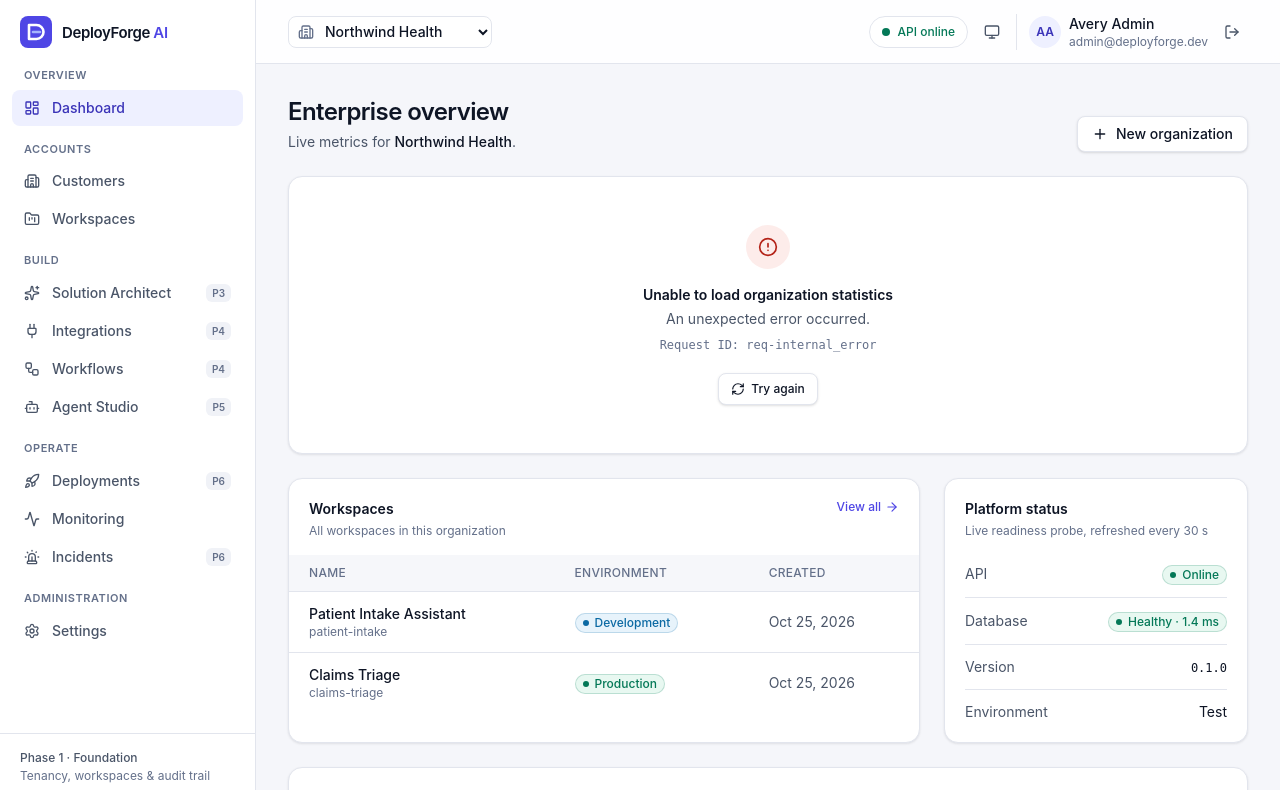
Test: DashboardPage › shows an error state with request ID and recovers on retry
expect the message that starts with "Unable to load organization statistics" is shown: met, box [643,286,893,303]
expect the message that starts with "Unable to load organization statistics" shows "Request ID: req-internal_error": met, box [643,225,893,405]
Click the button "Try again" at coordinates (768, 389), box [718,373,818,405]
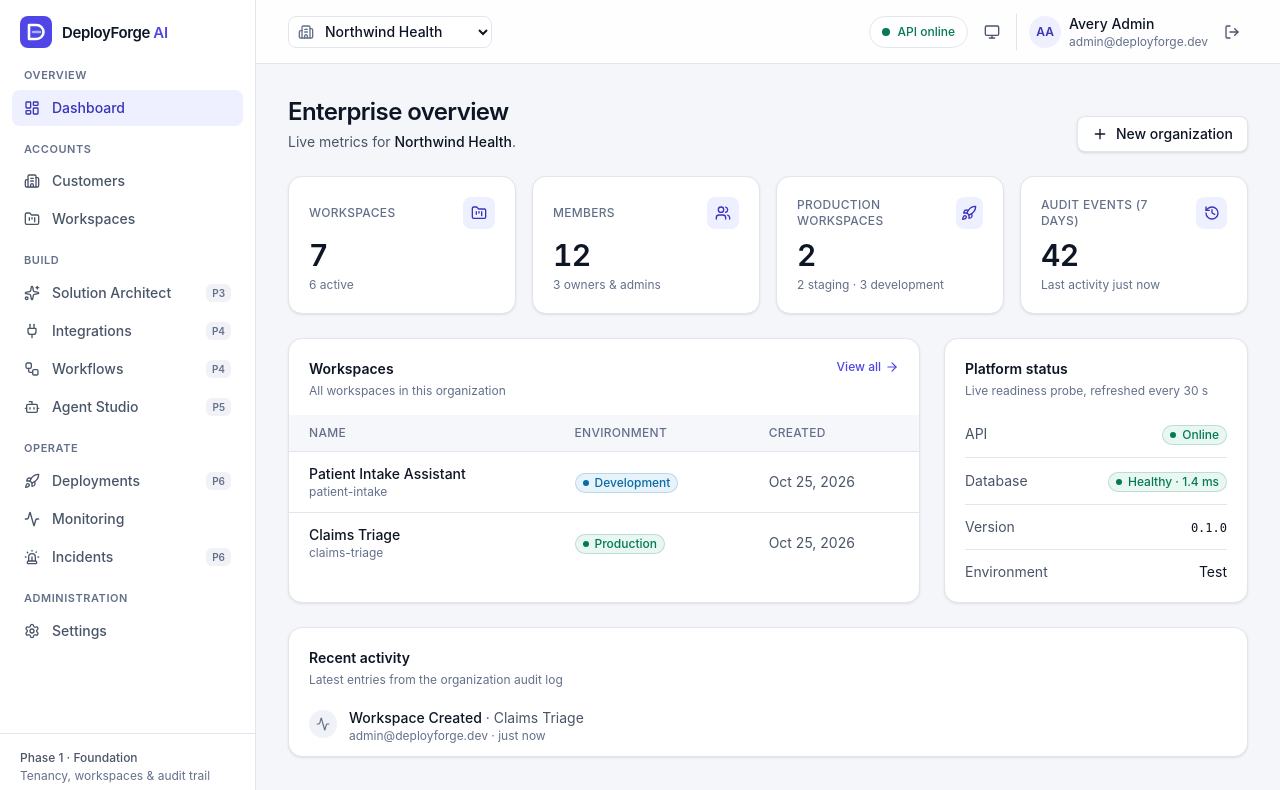
expect the text "7" is shown: met, box [309,237,328,273]
